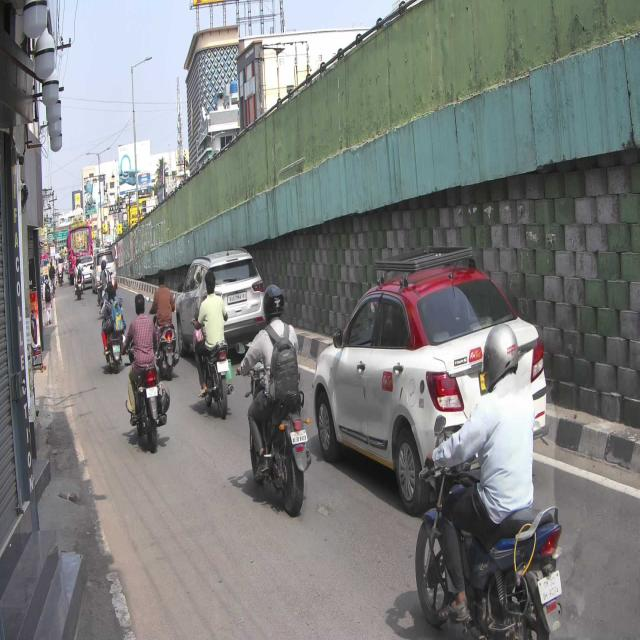single_rider: (414, 320, 562, 640), (237, 284, 310, 516), (124, 294, 168, 457)
